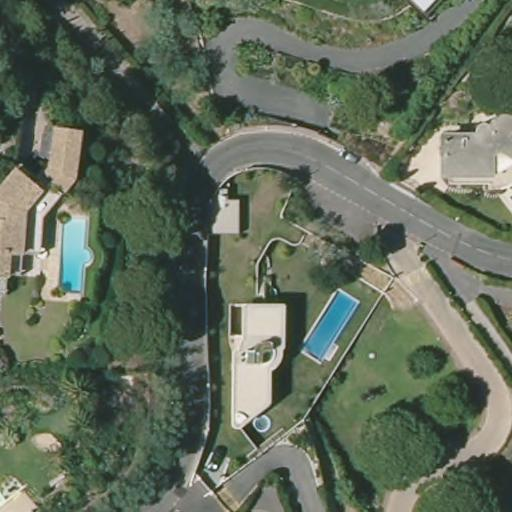pool: (302, 288, 358, 365), (54, 211, 94, 298)
